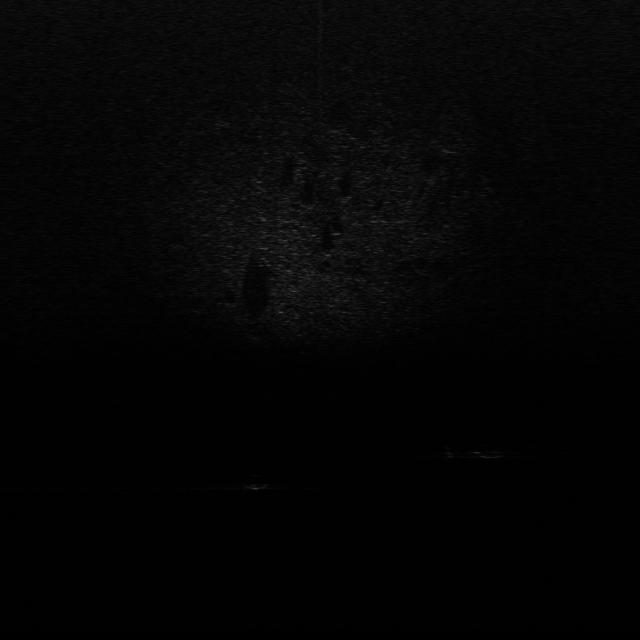ball: (242, 473, 272, 491)
human body: (438, 442, 517, 462)
